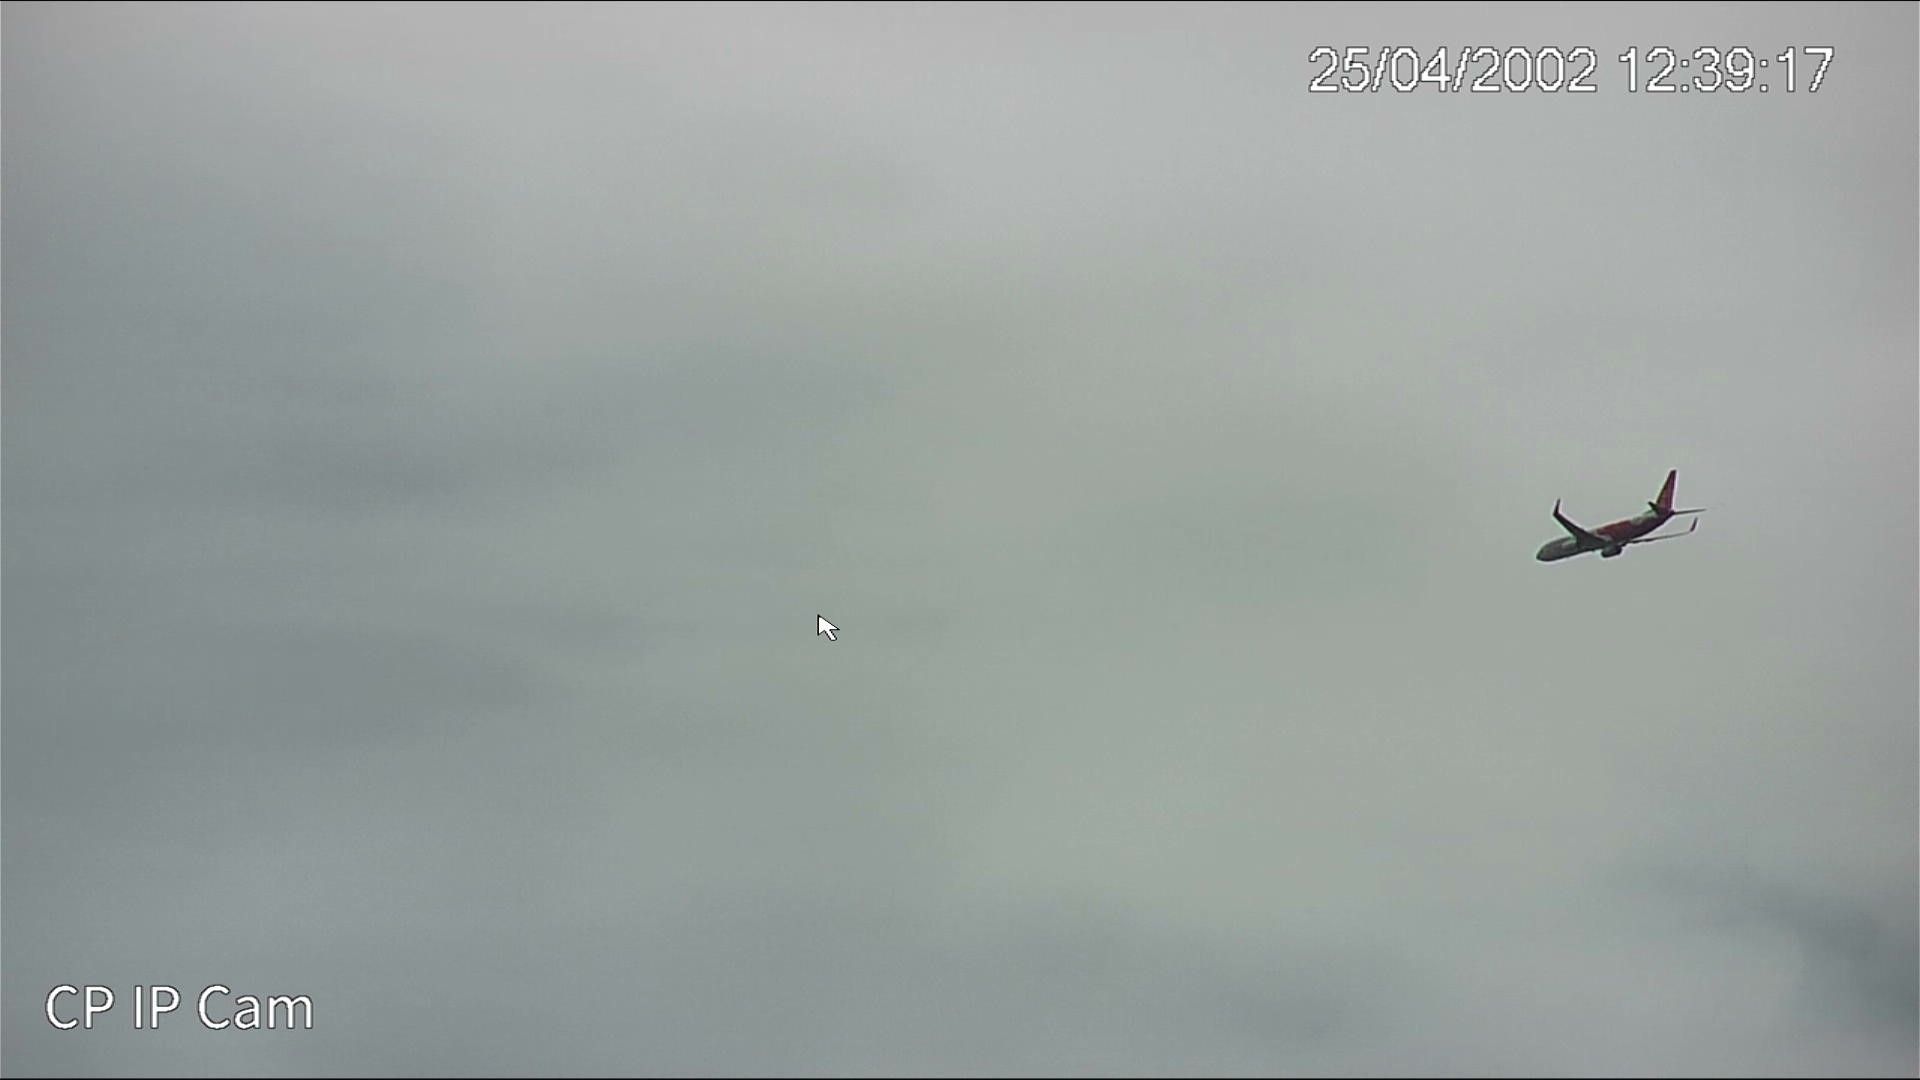SU_30: (1538, 473, 1716, 558)
